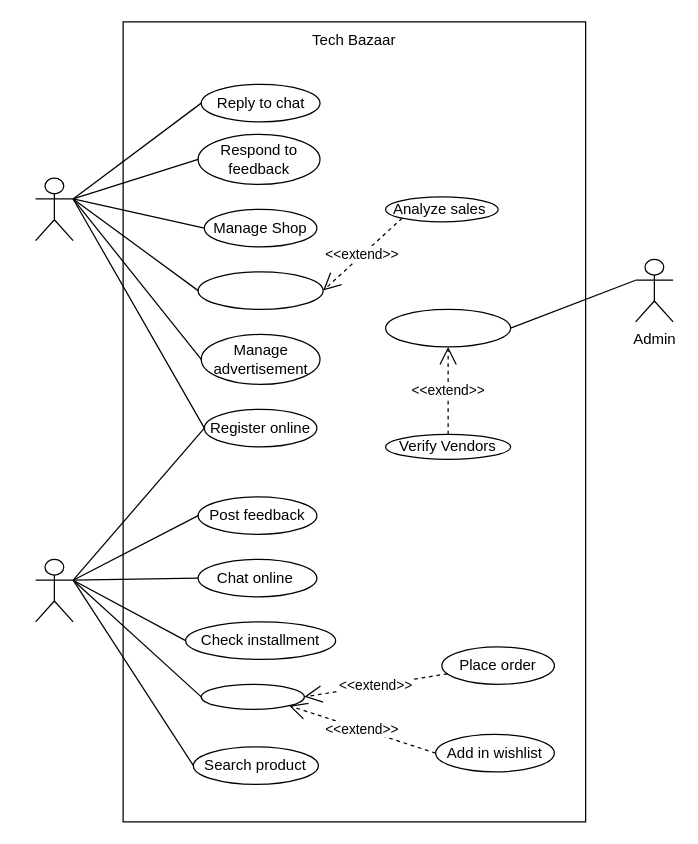
This 698x844 diagram has some shape labels left out. The shapes that lost their labels are listed below. From the top down, each one's centre as x and y in pixels, then its label:
point (53, 209): Vendor
point (260, 290): Manage Product
point (447, 327): Manage Vendors
point (53, 590): Customer
point (252, 696): View product
